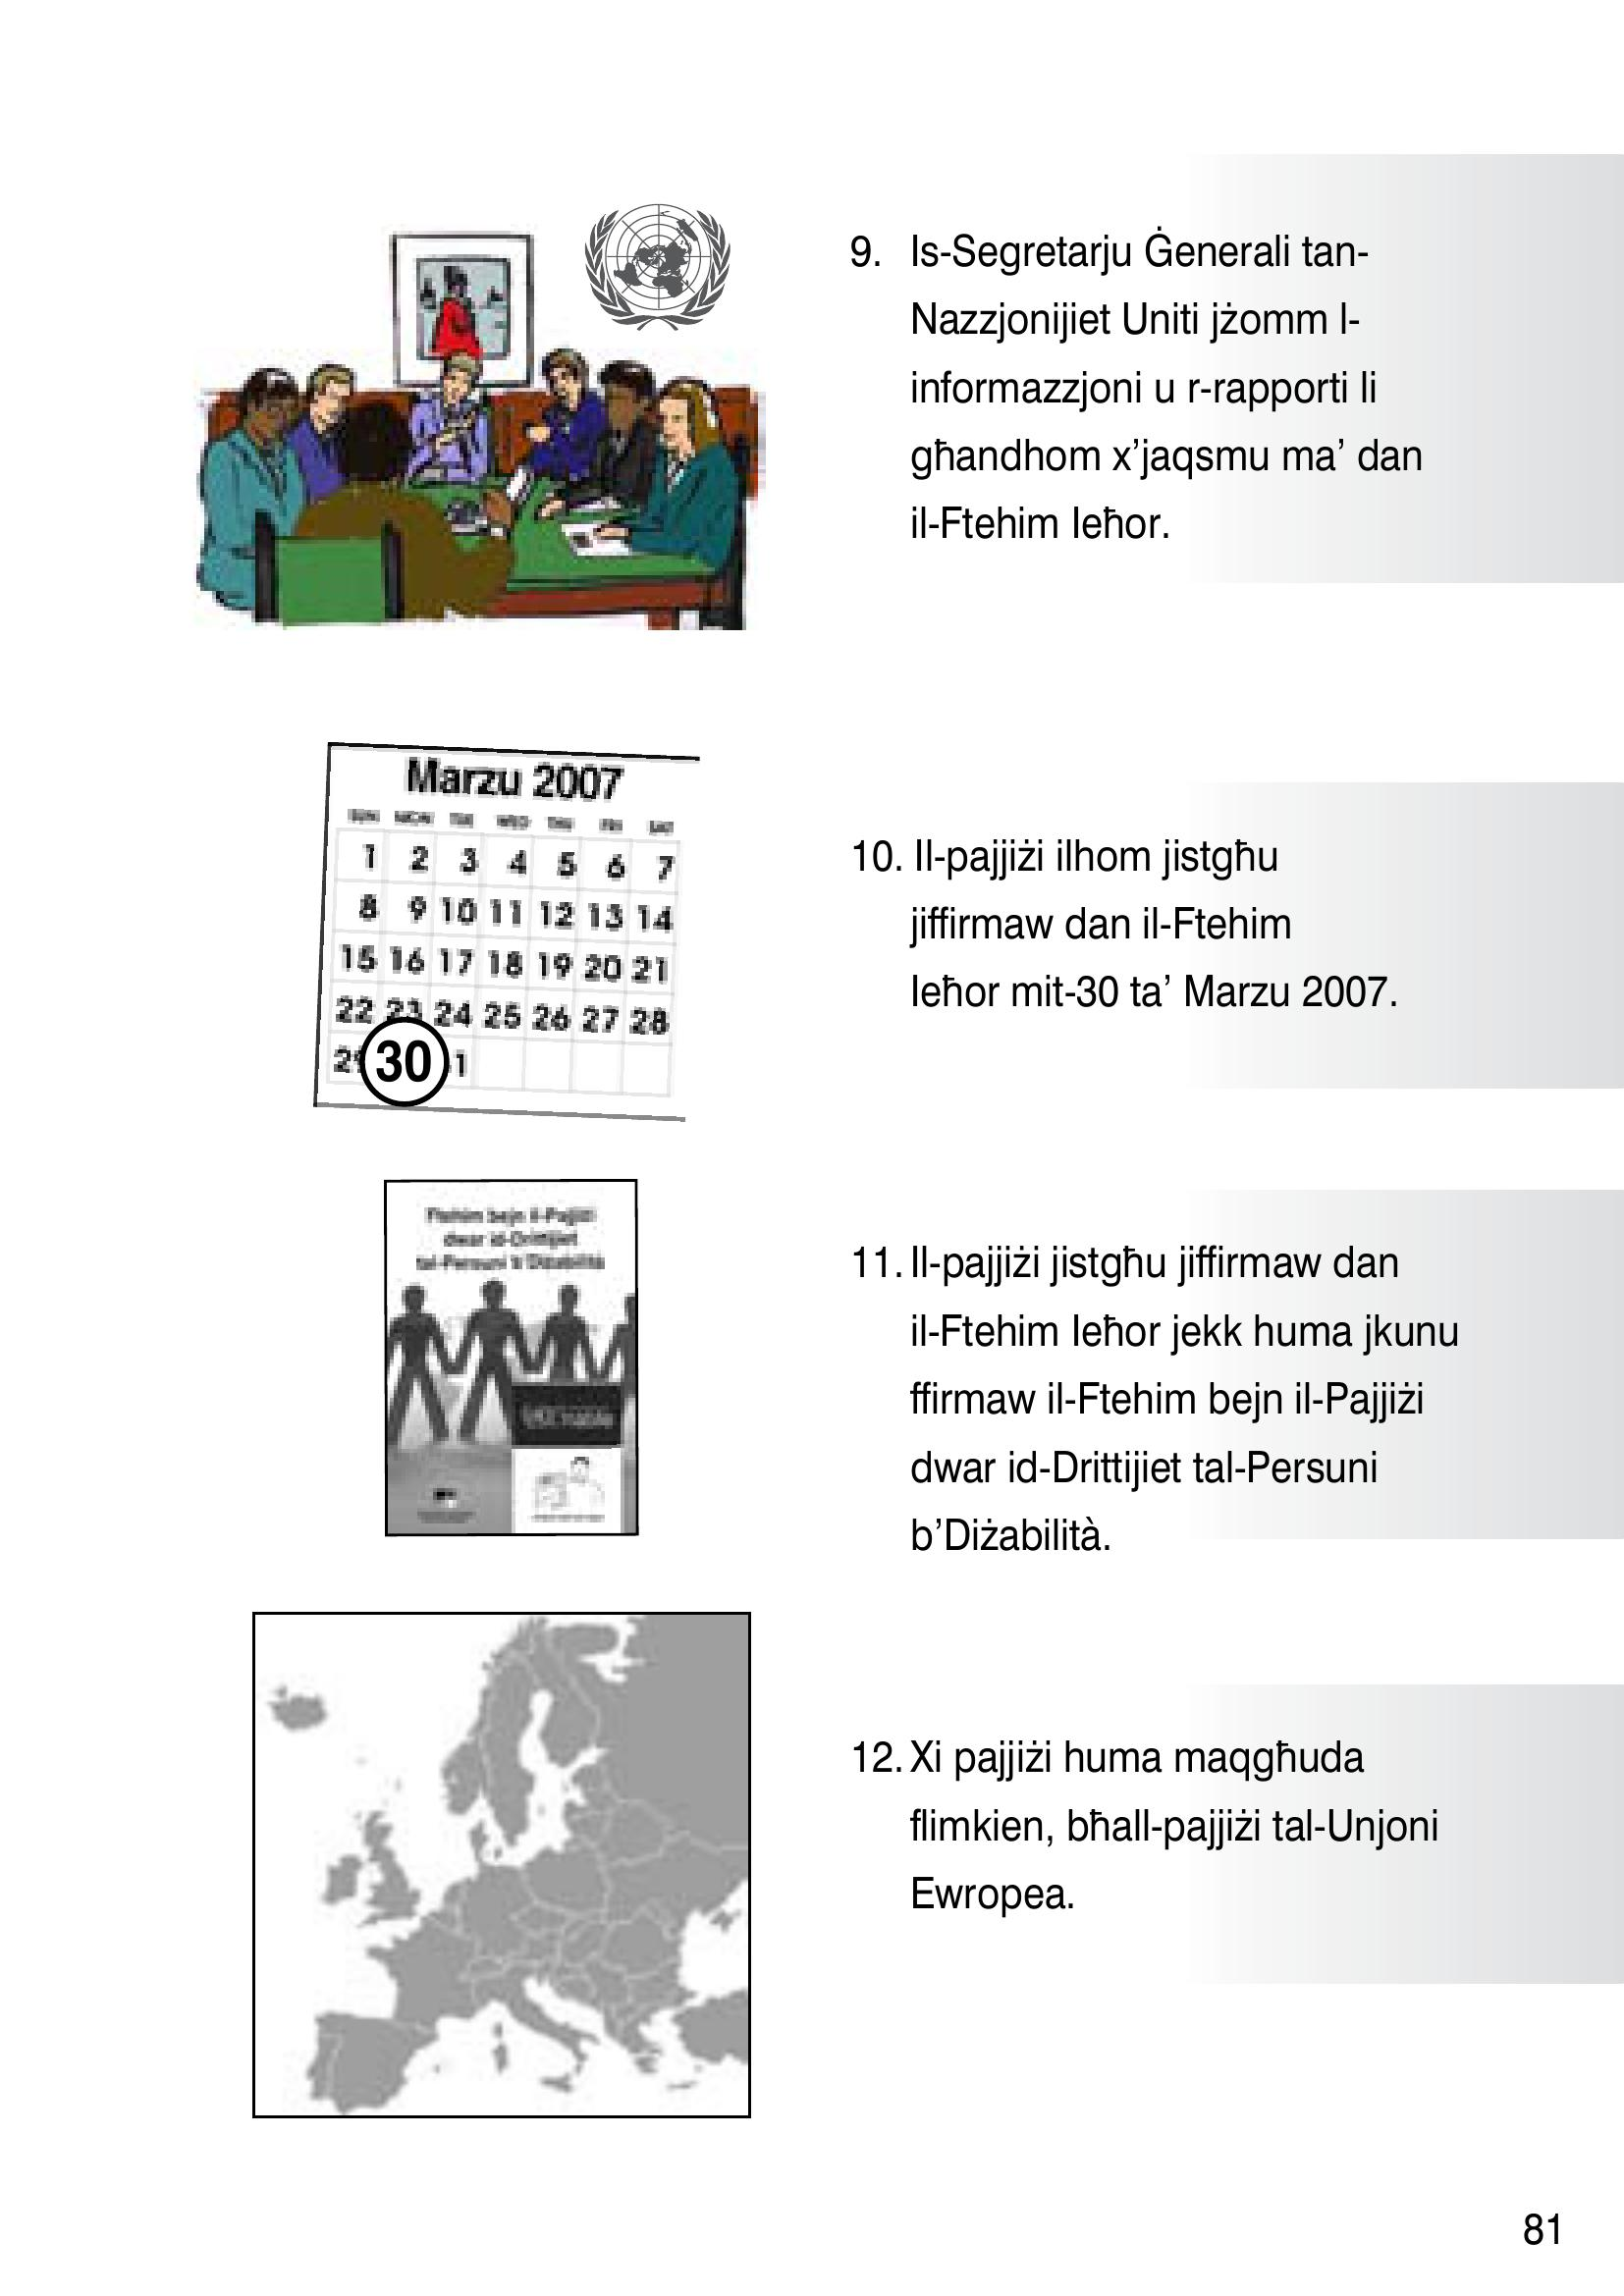text: (828, 213, 1471, 1975)
